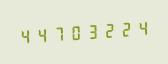four: (17, 24, 33, 47), (34, 23, 50, 46), (136, 16, 152, 39)
seven: (51, 22, 67, 45)
three: (85, 19, 101, 42)
two: (102, 18, 118, 41), (119, 17, 135, 40)
zero: (68, 21, 84, 43)
